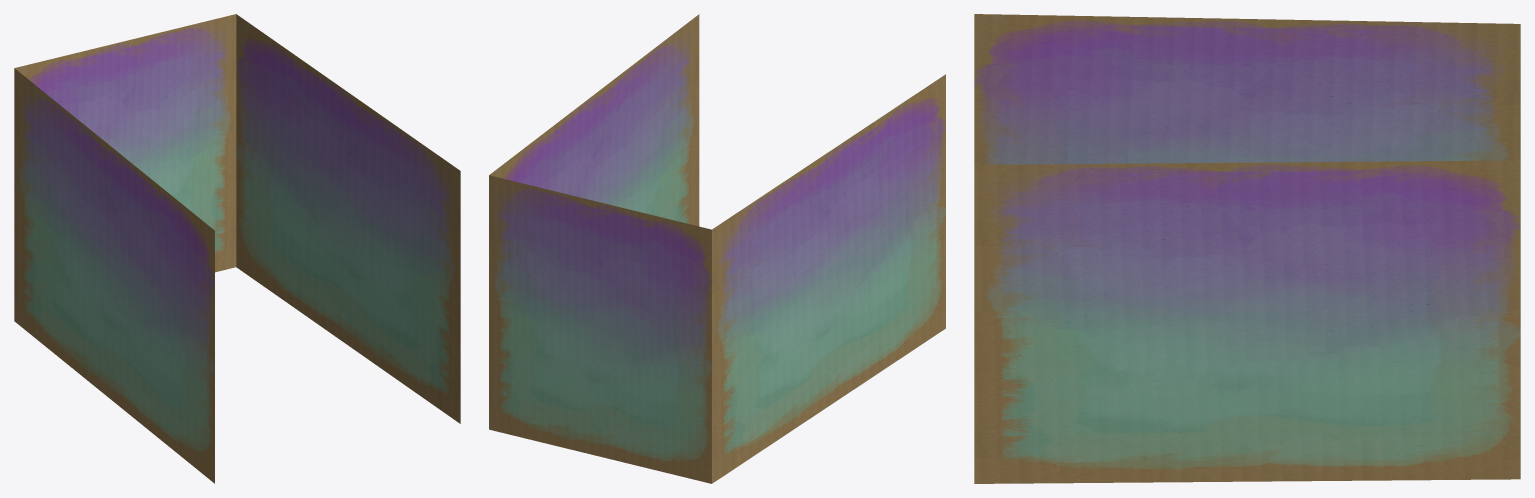
File: backBox.FBX
The picture shows the model from 3 angles, left to right: view 1: azimuth 30°, elevation 25°; view 2: azimuth 150°, elevation 25°; view 3: azimuth 270°, elevation 25°; orthographic projection. The views are drawn at different scales.
Visible parts, largest first — view 1: Box001; view 2: Box001; view 3: Box001.
Part boxes in pixels (box(x1,y1,x2,y2)): Box001: box(14, 14, 460, 483); Box001: box(489, 14, 945, 483); Box001: box(974, 14, 1520, 483).
Bounding box in the file's own units: 165 × 162 × 252.
1 material, 1 textured.
